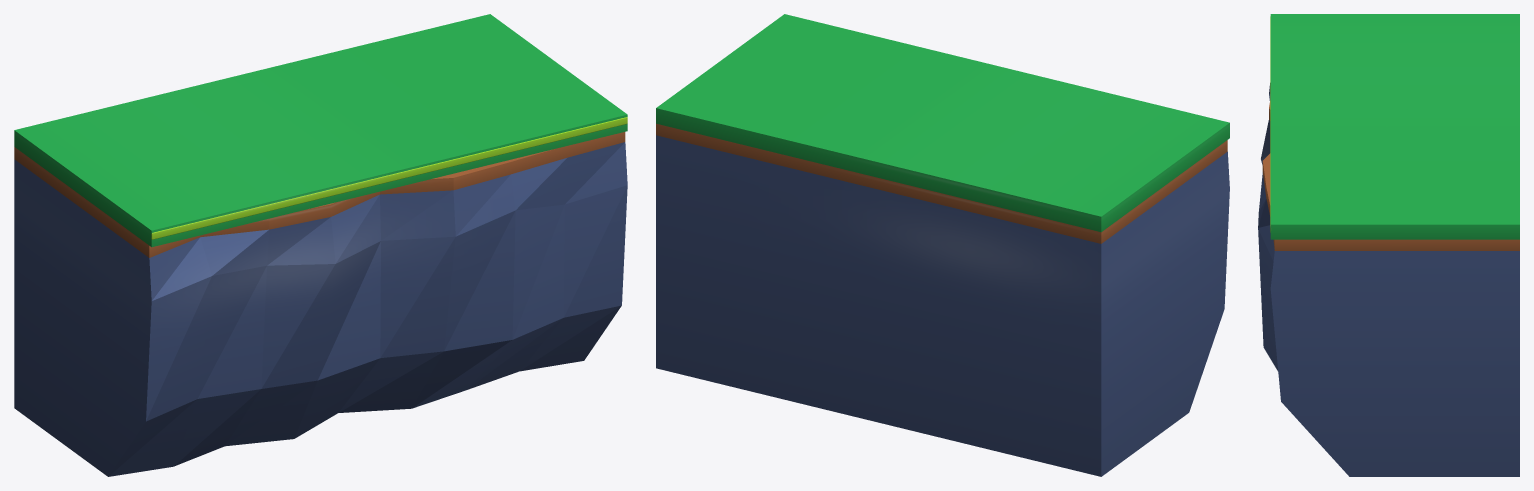
The model's file is CliffStraightC.fbx.
3 renders of one model, left to right at view 1: azimuth 30°, elevation 25°; view 2: azimuth 150°, elevation 25°; view 3: azimuth 270°, elevation 25°, orthographic. The views are drawn at different scales.
Parts seen in each view (by area): view 1: CliffStraightC; view 2: CliffStraightC; view 3: CliffStraightC.
Boxes of the visible parts, x1,y1,x2,y2 form: CliffStraightC: (14,14,627,476); CliffStraightC: (656,14,1229,476); CliffStraightC: (1258,14,1519,476).
Bounding box in the file's own units: 24 × 13.4 × 12.61.
Materials: 1 (1 with a texture image).
